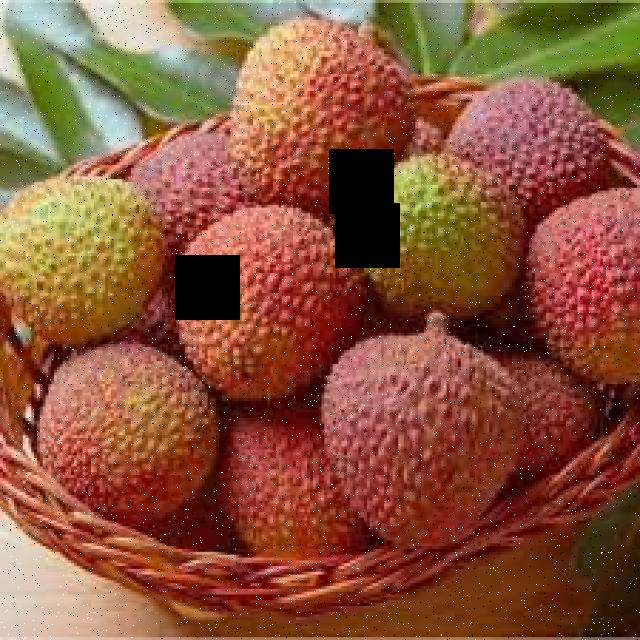lychee: (0, 51, 626, 538)
